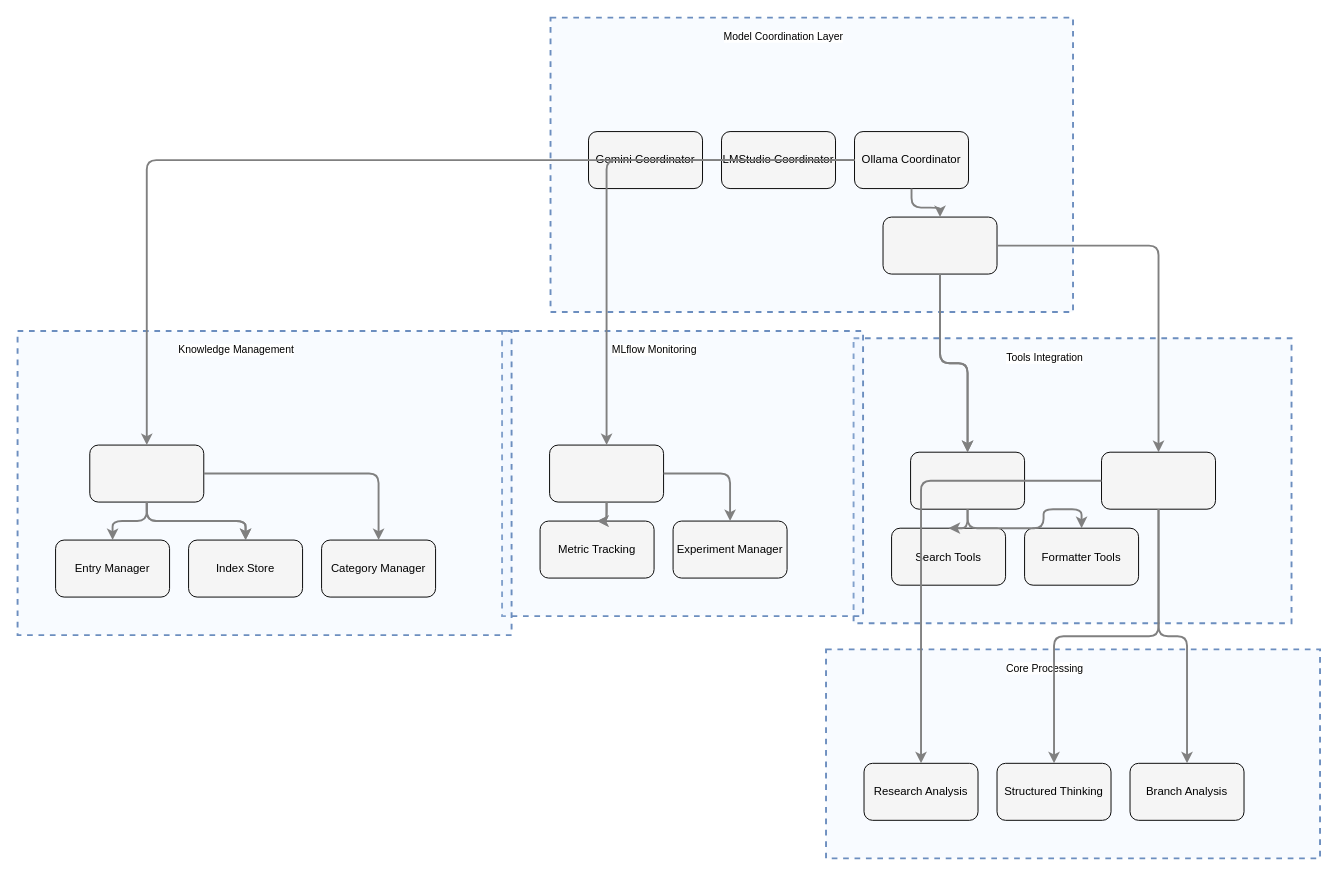
Some shapes in this 1337 by 875 pixel diagram are drawn without their labels. The centre of each missing label's shape, as x and y in pixels:
"Common Crew Interface" belongs at point 939,245.
"Custom Tools" belongs at point 967,480.
"Knowledge Manager" belongs at point 146,473.
"LangChain Tools" belongs at point 1158,480.
"MLflow Dashboard" belongs at point 606,473.
